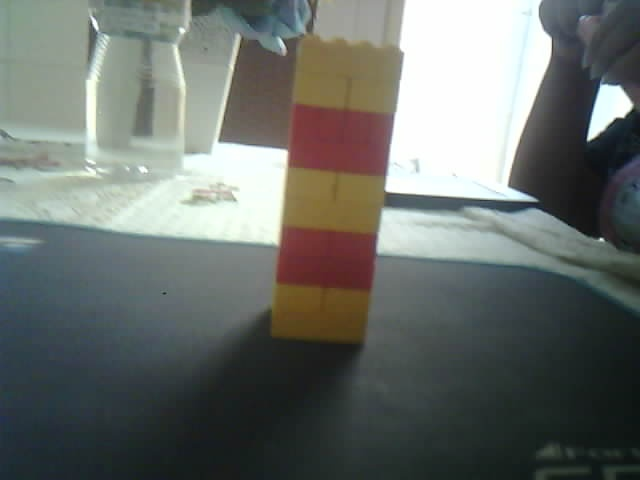lego: (269, 33, 404, 347)
